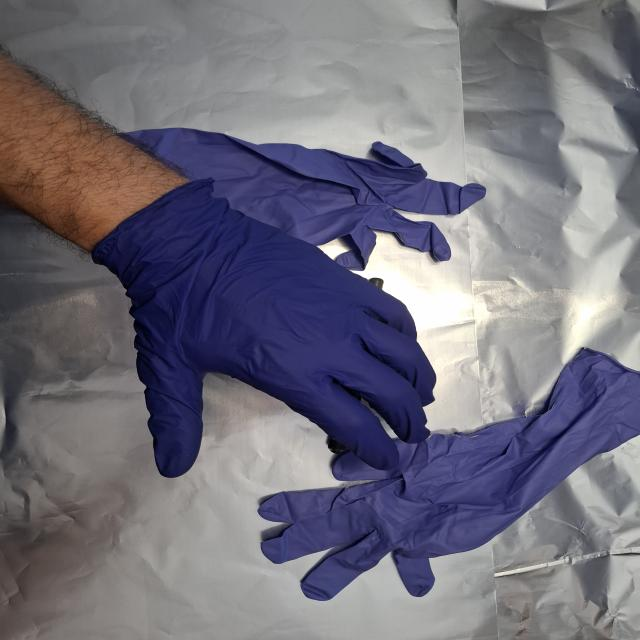glove_on: (97, 181, 442, 481)
